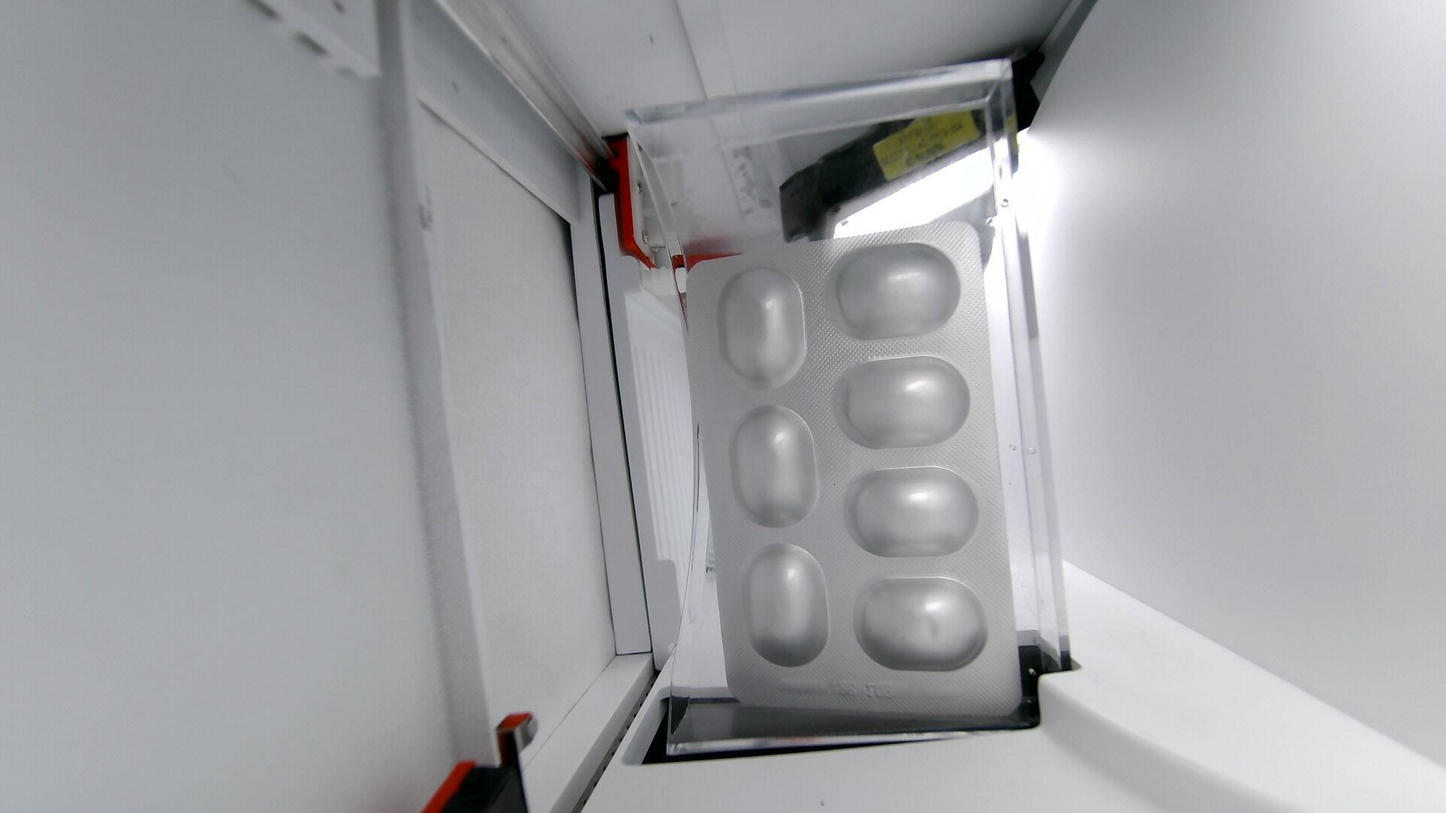Light Front: (686, 221, 1042, 728)
Pill Front: (833, 354, 971, 449), (827, 243, 960, 340), (853, 577, 988, 671), (844, 466, 978, 557), (718, 267, 807, 389), (729, 406, 817, 528), (743, 544, 828, 666)
